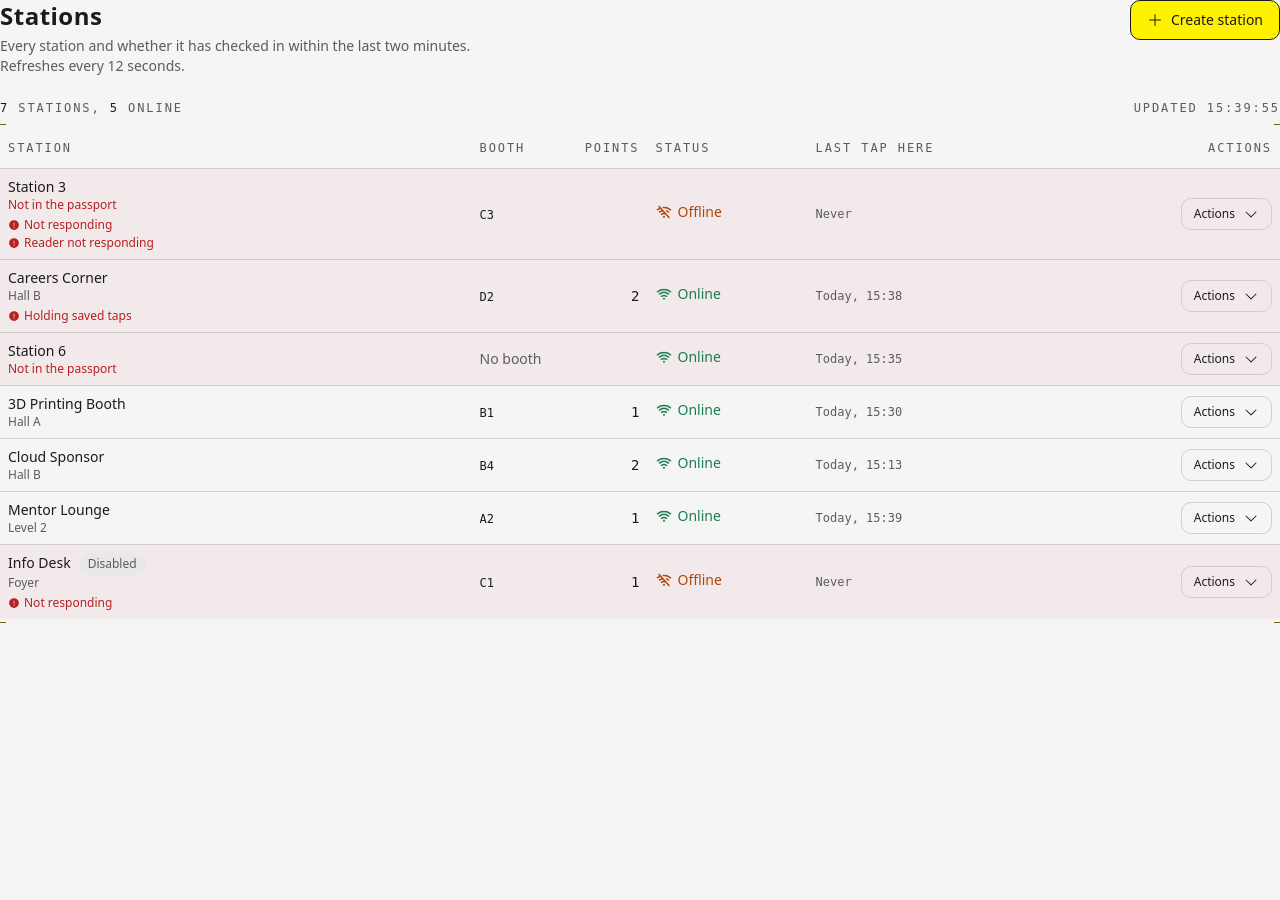
Scenario: passport settings on the station board › adds a station to the passport and swaps its menu's Add for an Edit
The image size is (1280, 900).
Click the button "Actions" in the row of "Station 6" at (1226, 358), box [1181,342,1272,374]
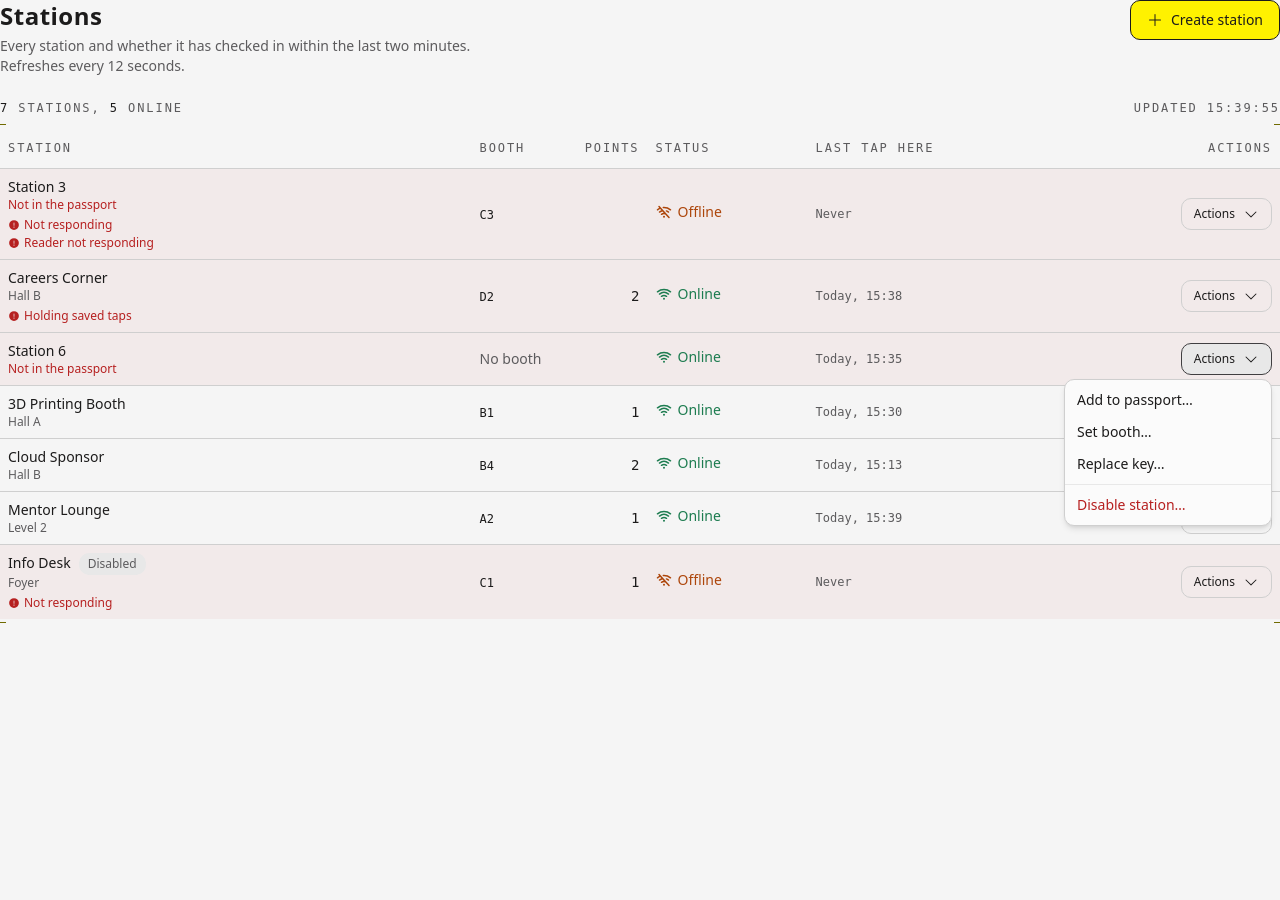
Check: the menu is shown, box [1064,379,1272,526]
Click the menu item "Add to passport…" at (1135, 400), box [1077,390,1193,409]
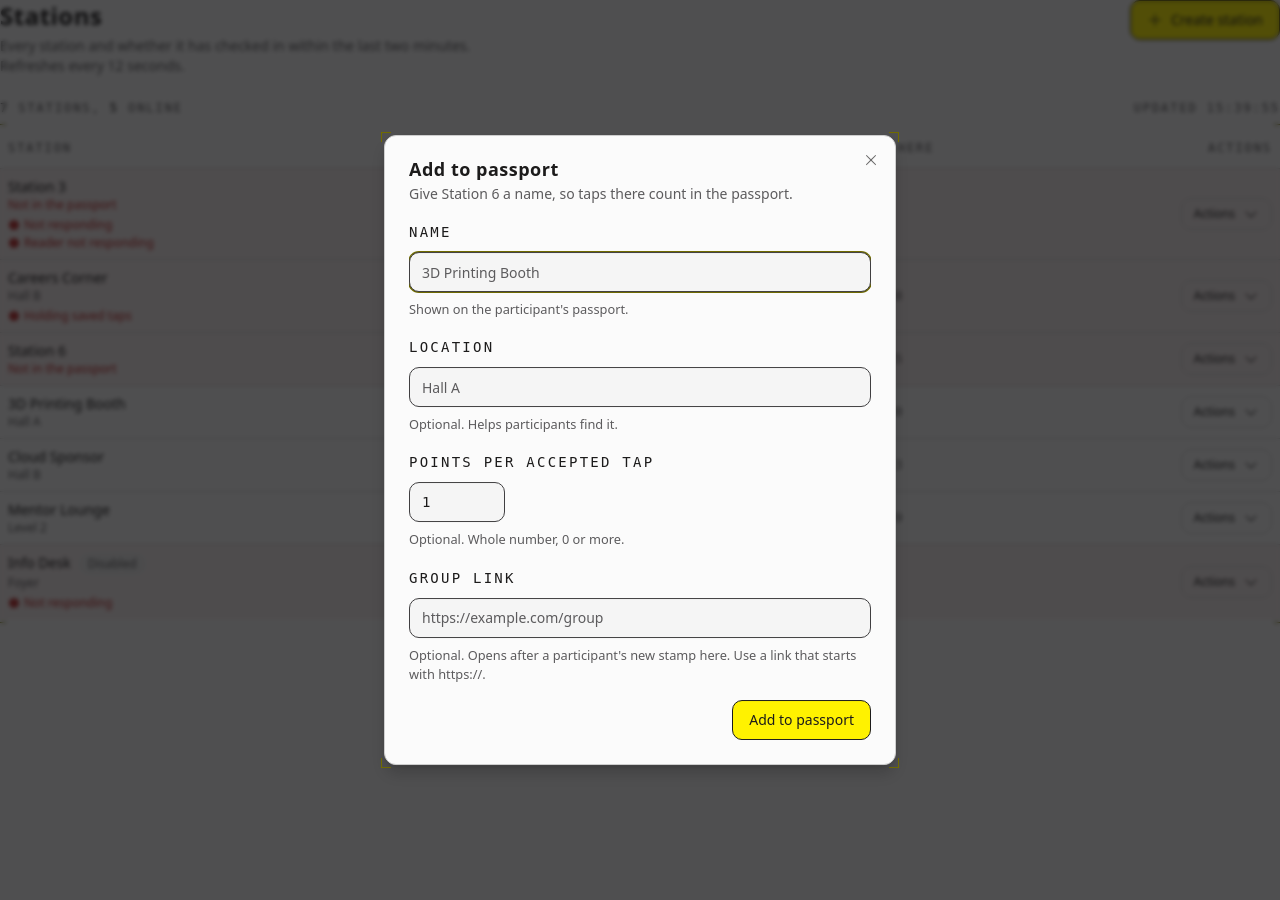
Type "Photo Wall" into the field labelled "Name" at (640, 272), box [409,252,871,292]
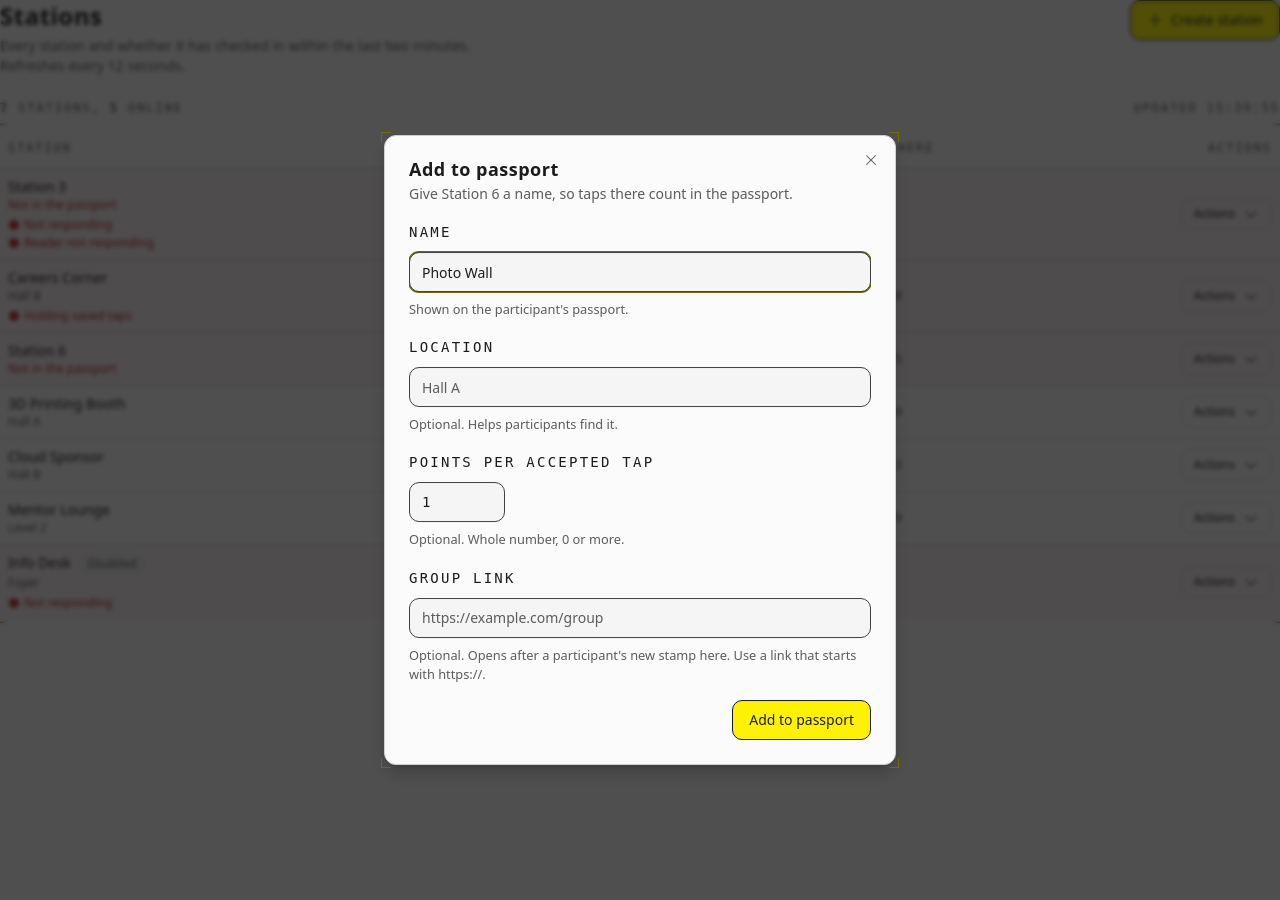
Click the button "Add to passport" at (802, 720), box [732,700,871,740]
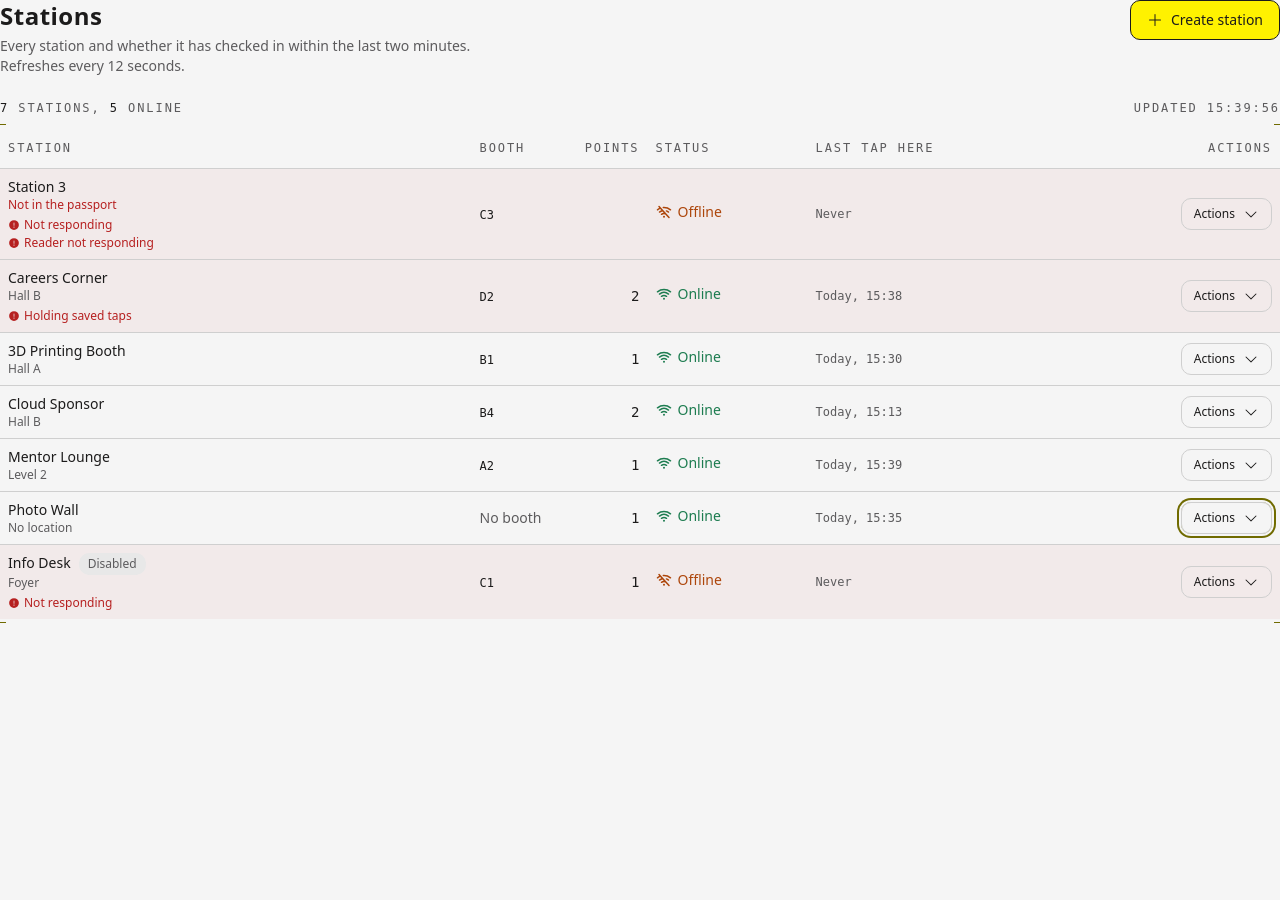
Click the button "Actions" in the row of "Photo Wall" at (1226, 518), box [1181,502,1272,534]
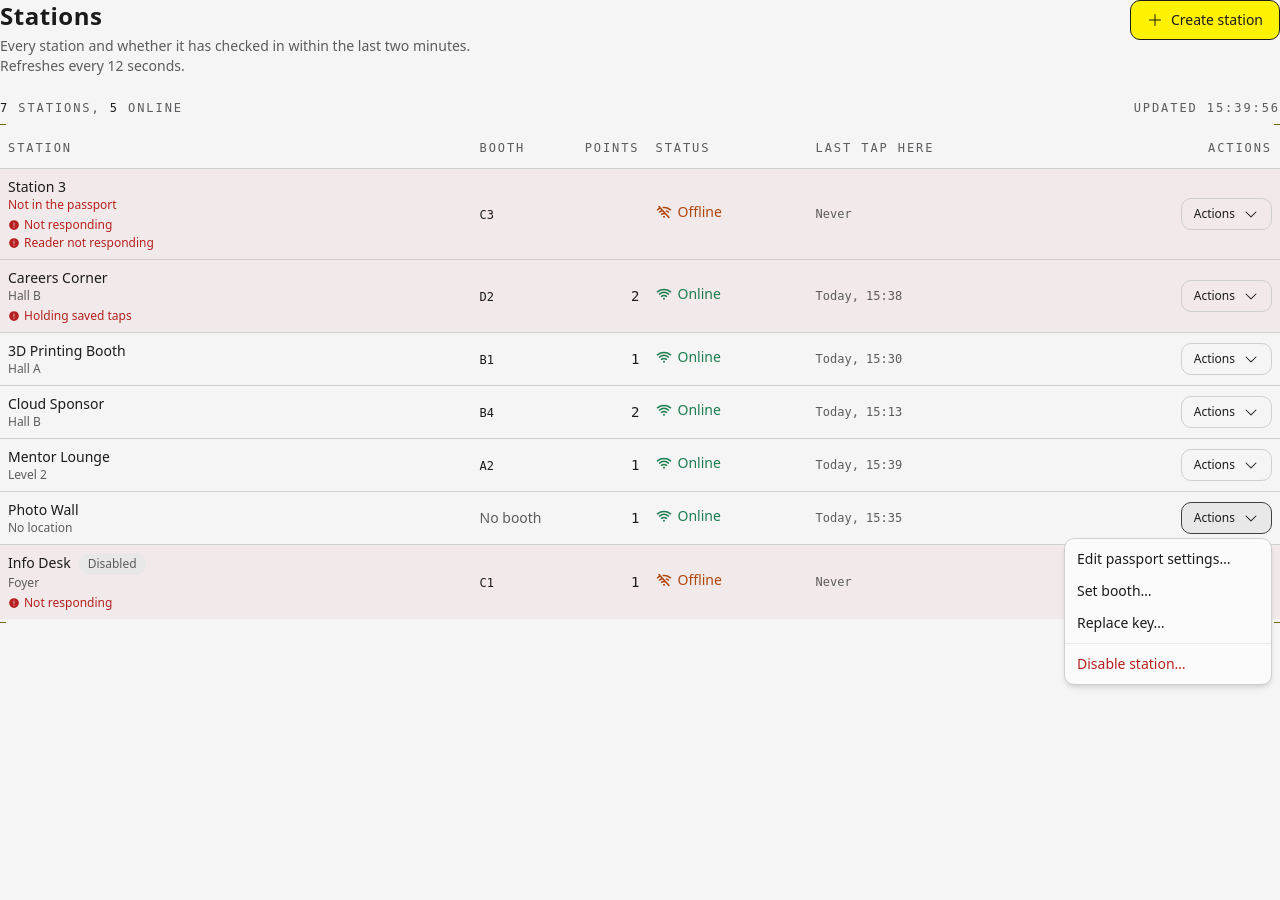
Check: the menu item "Add to passport…" is not shown
Check: the menu is shown, box [1064,538,1272,685]
Check: the menu item "Edit passport settings…" is shown, box [1077,549,1230,568]
